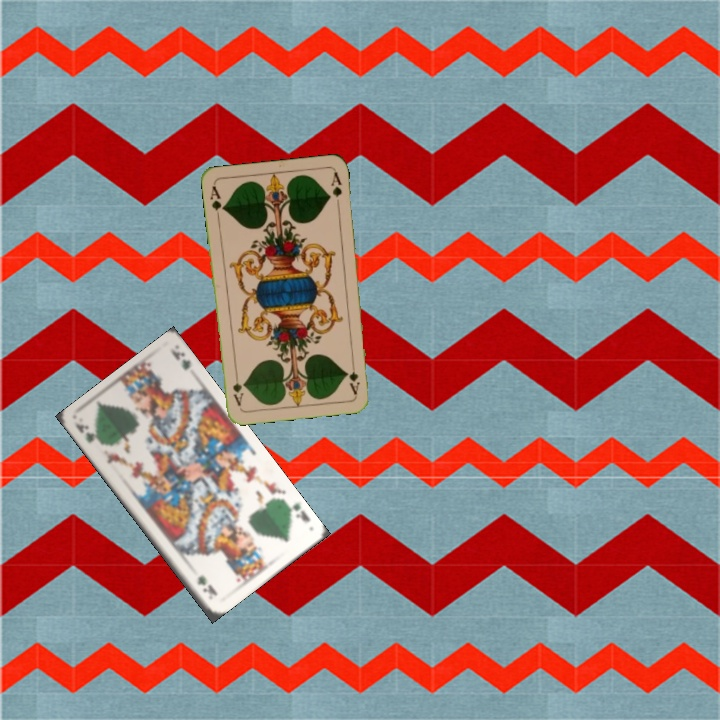GA: (206, 182, 227, 222), (346, 356, 362, 397)
GK: (71, 419, 105, 448), (280, 497, 313, 525)
